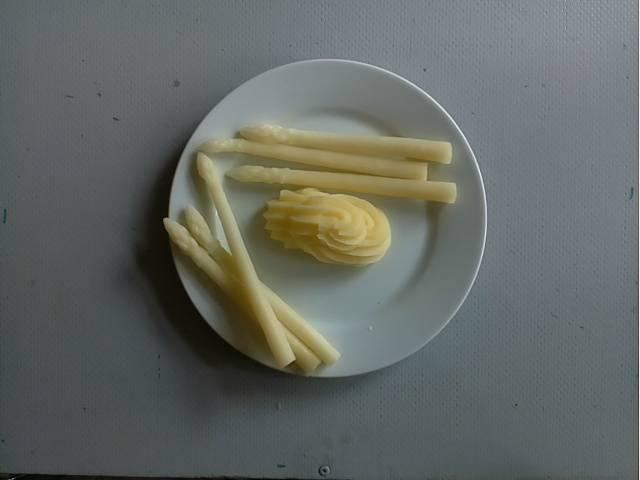Asparagus + mashed potatoes: (164, 123, 459, 369)
